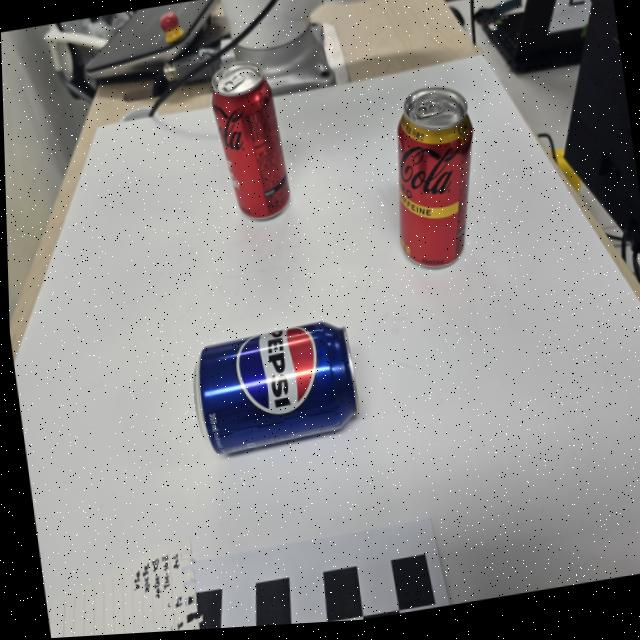can_coke_decaf: (398, 87, 470, 271)
can_coke_zero: (212, 63, 289, 216)
can_pepsi: (195, 321, 358, 451)
